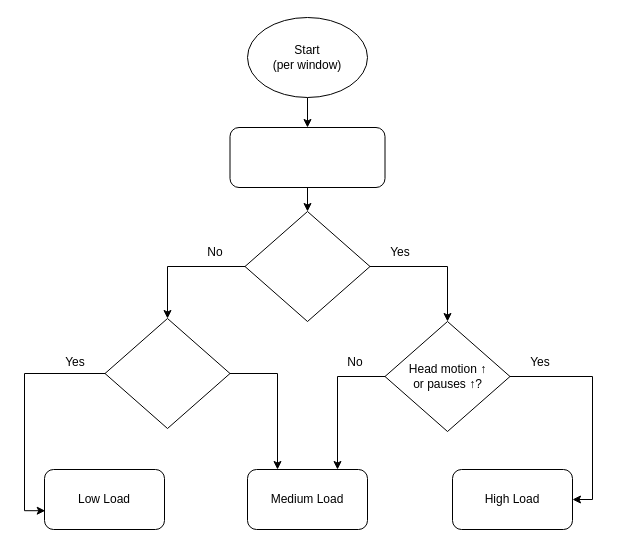
The diagram is 618 pixels wide and 547 high, and some of its shapes have lost their labels. Each missing label, with the centre of its shape:
Aggregate features over sliding temporal window: the point at 307,157
Blink rate elevated?: the point at 307,266
Fixation long & gaze stable?: the point at 167,373
